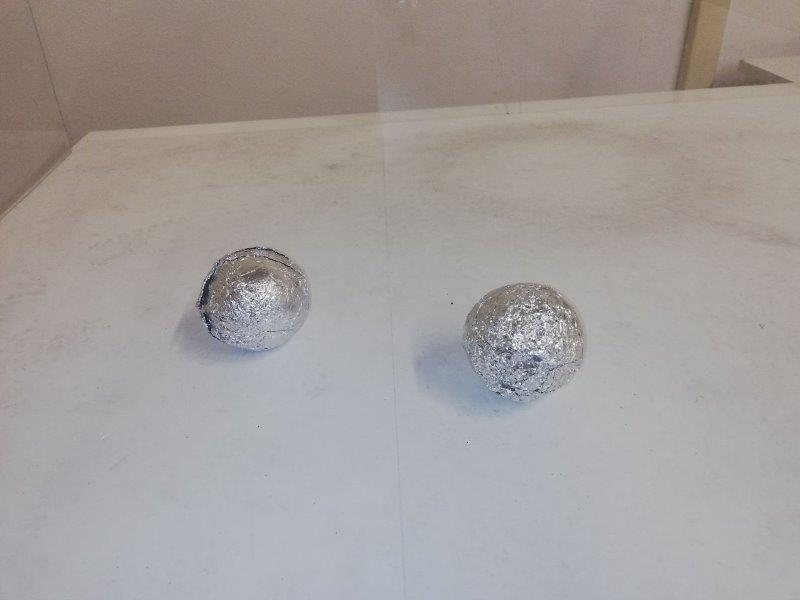bianca: (464, 282, 588, 403), (196, 245, 309, 352)
